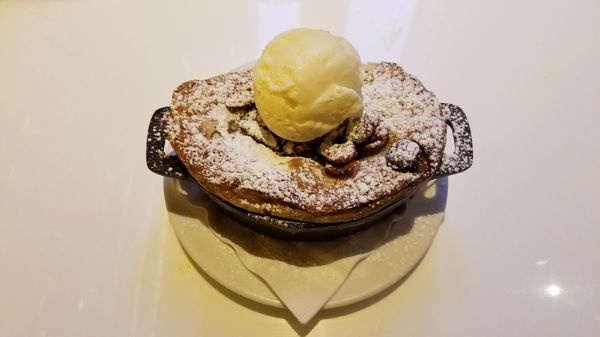soup: (151, 26, 453, 222)
